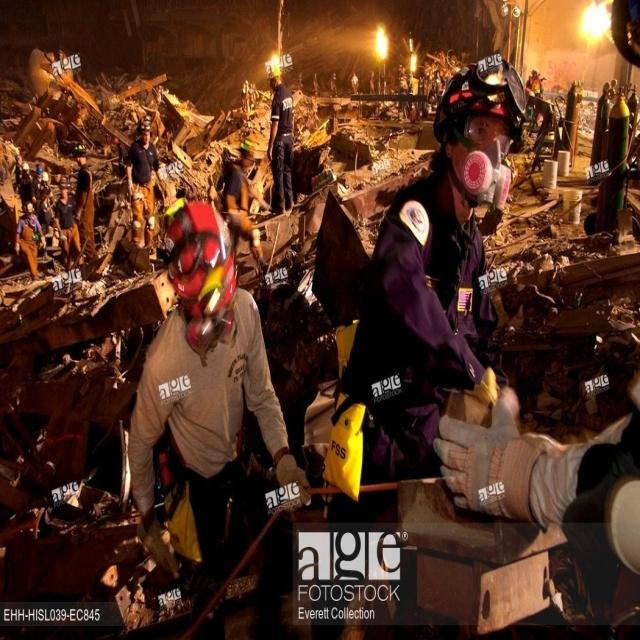helmet: (433, 78, 524, 278), (162, 266, 239, 466), (266, 85, 288, 124), (136, 154, 152, 194), (74, 192, 87, 221), (22, 268, 34, 293)
